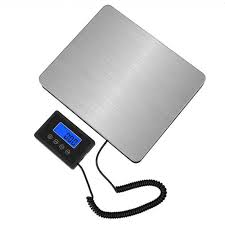Industrial Scale: (34, 3, 205, 220)
